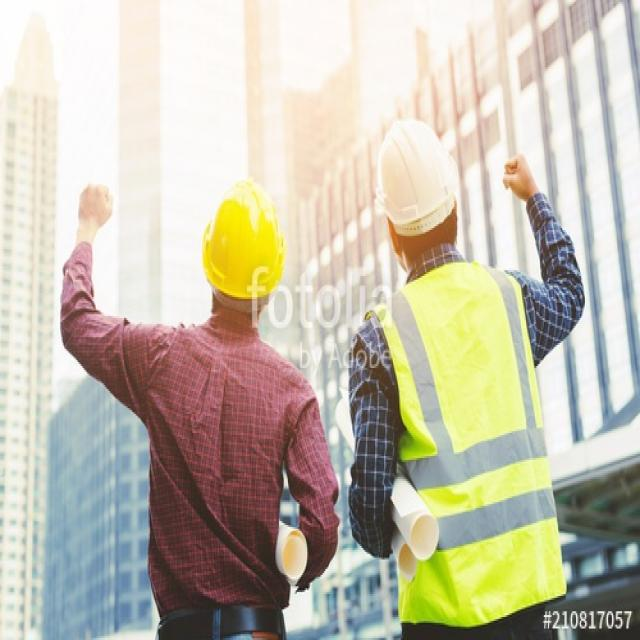Reflective-Jacket: (366, 264, 565, 626)
Safety-Helmet: (197, 168, 291, 302), (370, 108, 462, 240)
